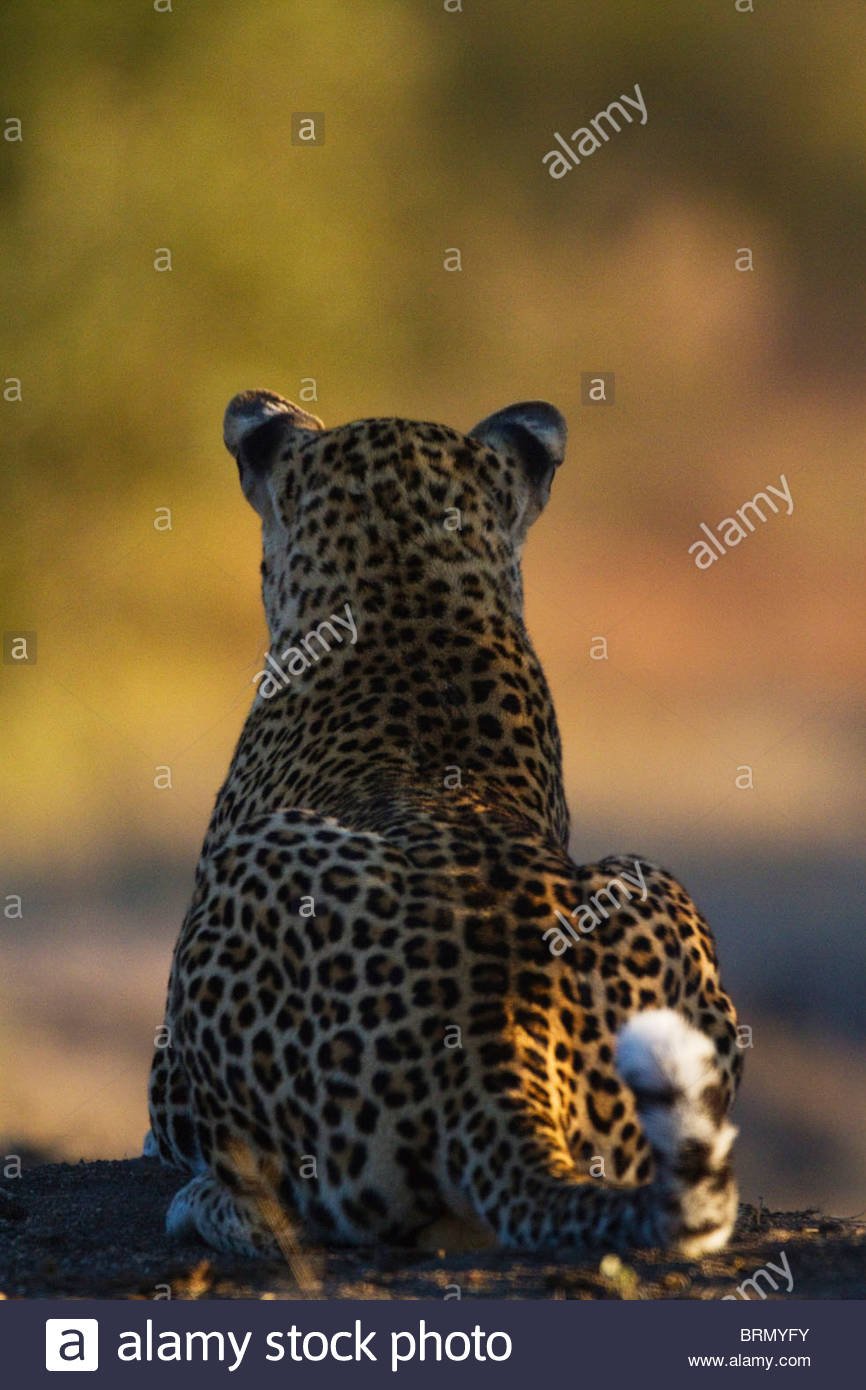leopard: (120, 380, 757, 1277)
